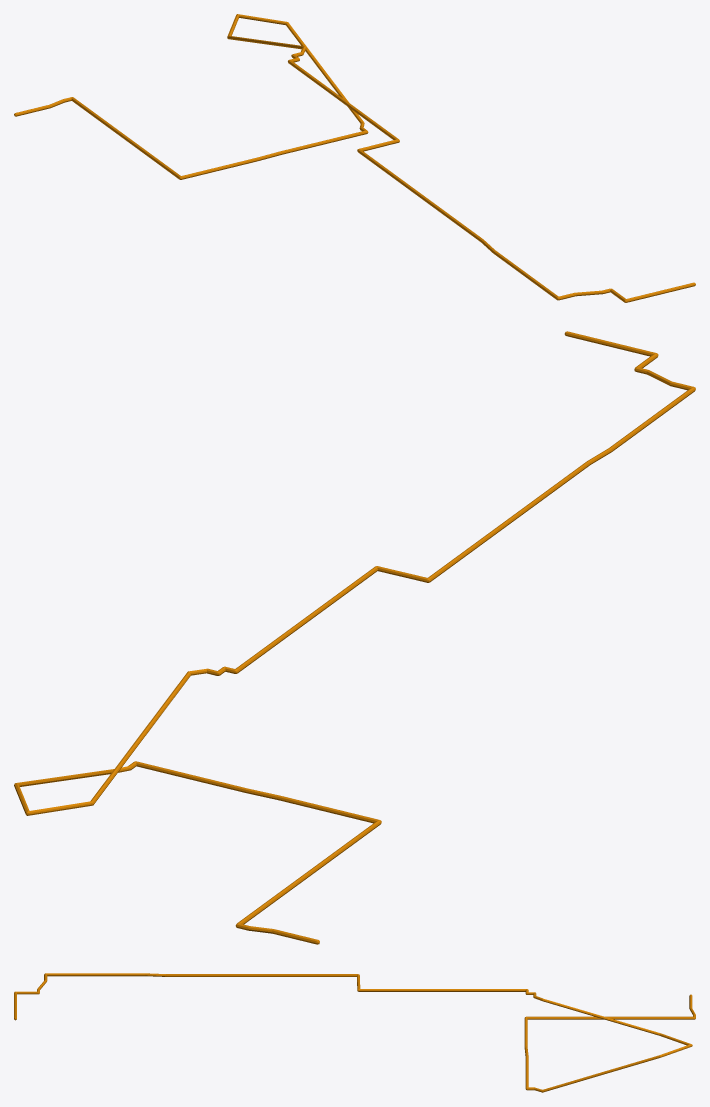
The picture shows the model from 3 angles, top to bottom: view 1: azimuth 30°, elevation 25°; view 2: azimuth 150°, elevation 25°; view 3: azimuth 270°, elevation 25°; orthographic projection. The views are drawn at different scales.
Size of the model in its own units: 1492 by 520 by 4456.
